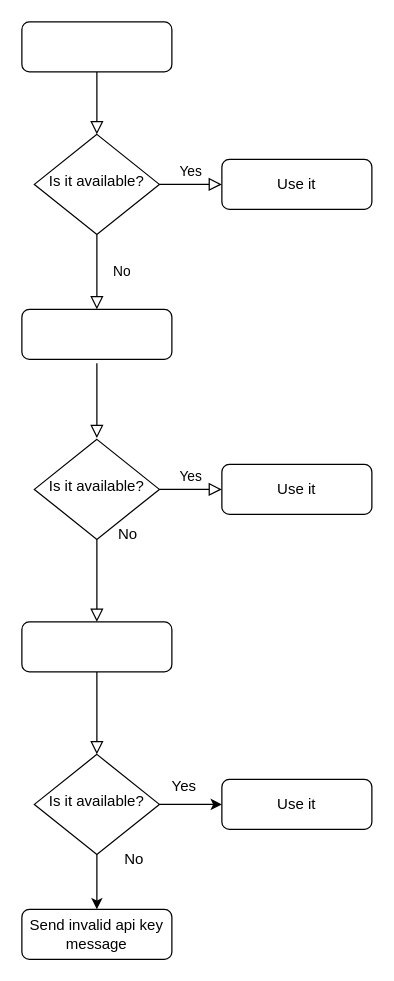
Some shapes in this 394 by 981 pixel diagram are drawn without their labels. Each missing label, with the centre of its shape:
"Check encrypted payload" goes at (96,333).
"Check request headers" goes at (96,46).
"Check URL parameters" goes at (96,646).
